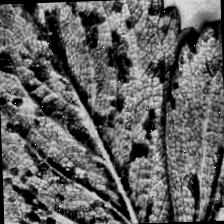Angular Leafspot: (0, 0, 203, 224), (160, 0, 224, 222)
